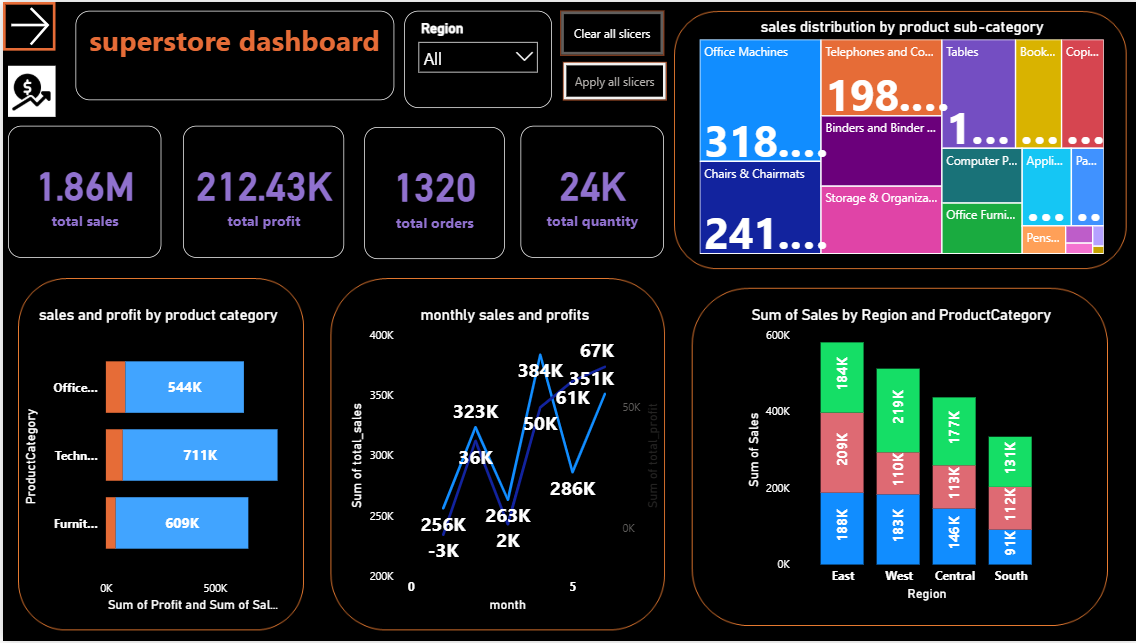

What the dashboard file says about the page in this screenshot:
{"tool":"powerbi","page":{"name":"sales and profit  analysis","canvas":[1280,720],"ordinal":0},"visuals":[{"type":"card","fields":{"Values":["Query1.total sales"]},"box":[5.8,139.9,173.1,148.6],"z":0},{"type":"card","fields":{"Values":["Query1.total profit"]},"box":[203.4,139.9,181.8,148.6],"z":1000},{"type":"card","fields":{"Values":["Query1.total orders"]},"box":[406.9,141.4,158.7,148.6],"z":2000},{"type":"card","fields":{"Values":["Query1.total quantity"]},"box":[582.9,139.9,161.6,148.6],"z":3000},{"type":"columnChart","title":"Sum of Sales by Region and ProductCategory","fields":{"Category":["Query1.Region"],"Y":["Sum(Query1.Sales)"],"Series":["Query1.ProductCategory"]},"box":[832.5,341.9,359.2,337.6],"z":4000},{"type":"slicer","fields":{"Values":["Query1.Region"]},"box":[452.1,9.9,166.2,109.9],"z":5000},{"type":"textbox","box":[82.2,10.1,359.2,101],"z":6000},{"type":"treemap","title":"sales distribution by product sub-category ","fields":{"Group":["Query1.ProductSubCategory"],"Values":["Sum(Query1.Sales)"]},"box":[779.6,18.1,465.4,270.4],"z":7000},{"type":"lineChart","title":"monthly sales and profits","fields":{"Category":["Query3.month"],"Y":["Sum(Query3.total_sales)"],"Y2":["Sum(Query3.total_profit)"]},"box":[385.2,341.9,359.2,350.6],"z":8000},{"type":"barChart","title":"sales and profit by  product category","fields":{"Y":["Sum(Query1.Profit)","Sum(Query1.Sales)"],"Category":["Query1.ProductCategory"]},"box":[18.8,341.9,313.1,350.6],"z":9000},{"type":"actionButton","box":[0,0,59.2,54.8],"z":10000},{"type":"image","box":[6.1,67.5,52.8,57.7],"z":11000},{"type":"actionButton","box":[627.6,10.1,116.9,50.5],"z":12000},{"type":"actionButton","box":[630.5,67.8,116.9,43.3],"z":13000}]}

Visuals, with their boxes in screenshot pixels (x1, y1, x2, y2), scaled from the page's 1280x720 canvas onto the 1136x643 screenshot:
card - Query1.total sales: 5,125,159,258
card - Query1.total profit: 181,125,342,258
card - Query1.total orders: 361,126,502,259
card - Query1.total quantity: 517,125,661,258
"Sum of Sales by Region and ProductCategory" columnChart: 739,305,1058,607
slicer - Query1.Region: 401,9,549,107
textbox: 73,9,392,99
"sales distribution by product sub-category " treemap: 692,16,1105,258
"monthly sales and profits" lineChart: 342,305,661,618
"sales and profit by  product category" barChart: 17,305,295,618
actionButton: 0,0,53,49
image: 5,60,52,112
actionButton: 557,9,661,54
actionButton: 560,61,663,99
